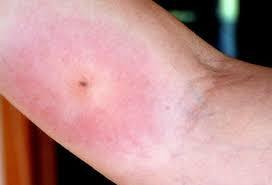Spider: (68, 68, 96, 98)
